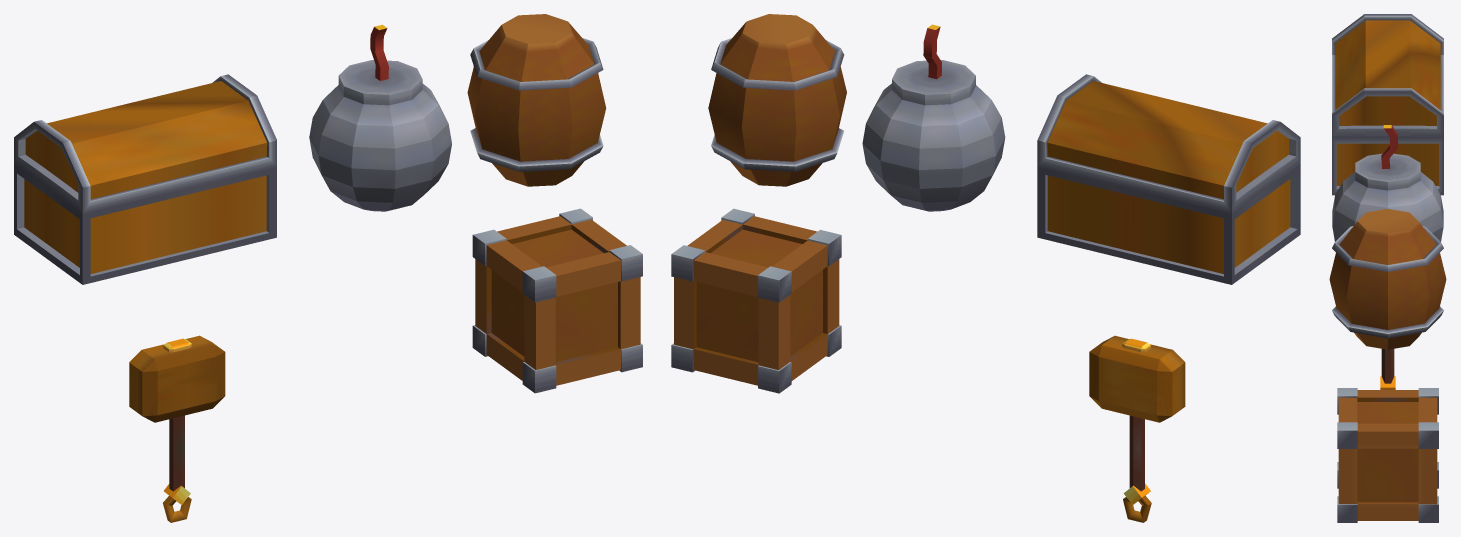
The model's file is New_Asset.fbx.
3 views of the same model, side by side, from view 1: azimuth 30°, elevation 25°; view 2: azimuth 150°, elevation 25°; view 3: azimuth 270°, elevation 25° (orthographic). The views are drawn at different scales.
Parts seen in each view (by area): view 1: Box_5, Box_3, Box_4, Boom, Bua; view 2: Box_5, Box_3, Box_4, Boom, Bua; view 3: Box_5, Box_3, Box_4, Boom, Bua.
Part boxes in pixels (bbox=[...]): Box_5: bbox=[14, 74, 276, 284]; Box_3: bbox=[472, 208, 642, 393]; Box_4: bbox=[467, 14, 606, 186]; Boom: bbox=[309, 24, 451, 211]; Bua: bbox=[129, 335, 225, 522]; Box_5: bbox=[1037, 74, 1300, 284]; Box_3: bbox=[671, 208, 841, 393]; Box_4: bbox=[708, 14, 846, 186]; Boom: bbox=[862, 24, 1005, 211]; Bua: bbox=[1089, 335, 1185, 522]; Box_5: bbox=[1332, 14, 1443, 195]; Box_3: bbox=[1337, 388, 1438, 522]; Box_4: bbox=[1329, 209, 1446, 349]; Boom: bbox=[1332, 125, 1443, 241]; Bua: bbox=[1380, 349, 1395, 389].
Bounding box in the file's own units: 871 × 654 × 192.
